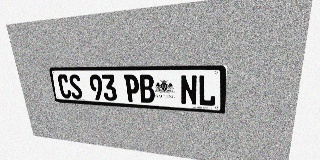3: (101, 74, 117, 101)
9: (89, 74, 104, 100)
B: (139, 75, 155, 103)
C: (57, 74, 72, 99)
L: (198, 75, 216, 107)
N: (180, 75, 197, 106)
P: (124, 75, 140, 102)
S: (68, 74, 83, 99)
